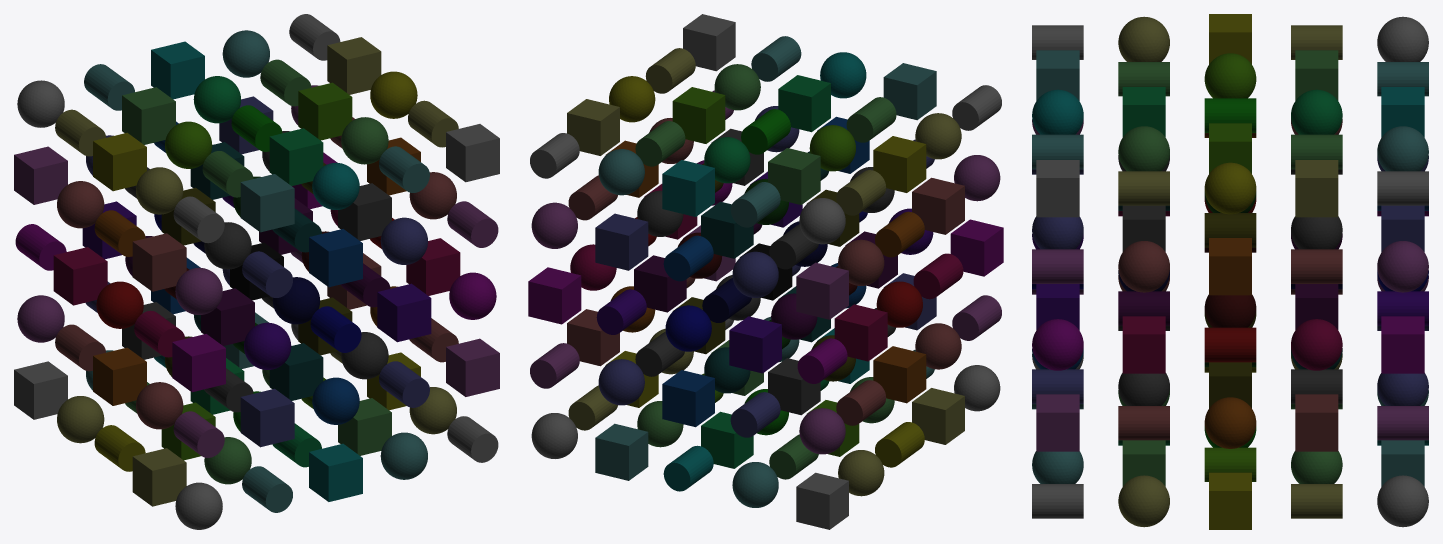
File: scene_trimesh.obj
3 views of the same model, side by side, from view 1: azimuth 30°, elevation 25°; view 2: azimuth 150°, elevation 25°; view 3: azimuth 270°, elevation 25° (orthographic). The views are drawn at different scales.
Size of the model in its own units: 4.6 by 4.6 by 4.6.
